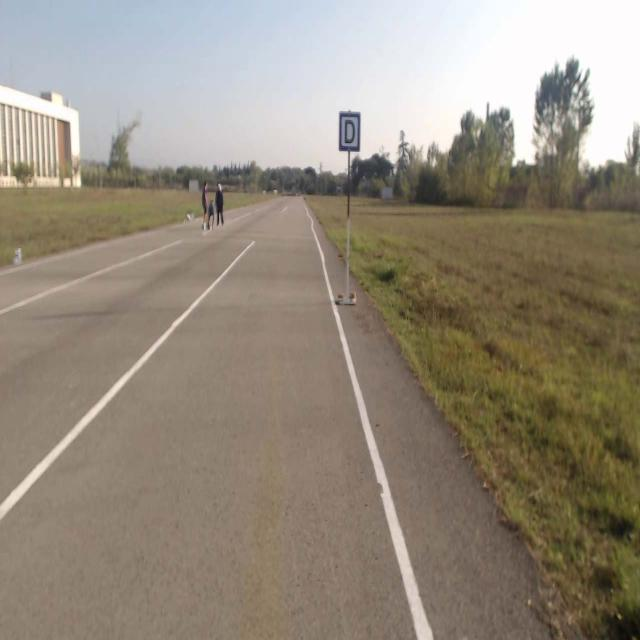durak: (340, 112, 359, 150)
